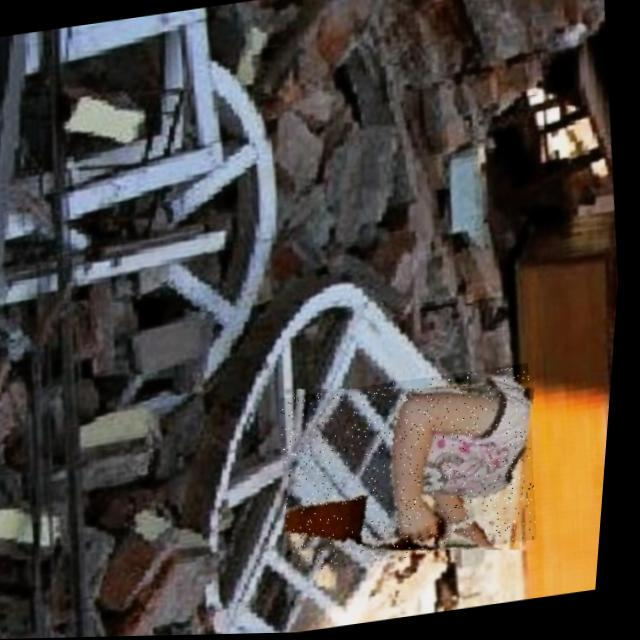Person in Rubble: (274, 365, 554, 577)
